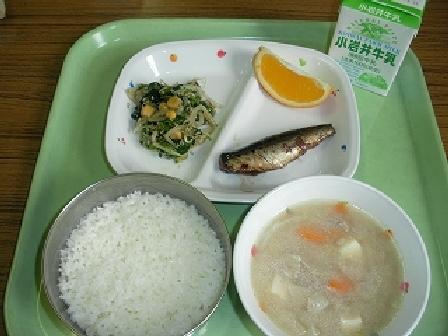Citrus: (246, 34, 339, 116)
Fish: (217, 116, 343, 177)
Milk: (320, 0, 433, 79)
Rice: (47, 174, 230, 335)
Salad: (123, 68, 223, 166)
Soups: (236, 187, 432, 335)
